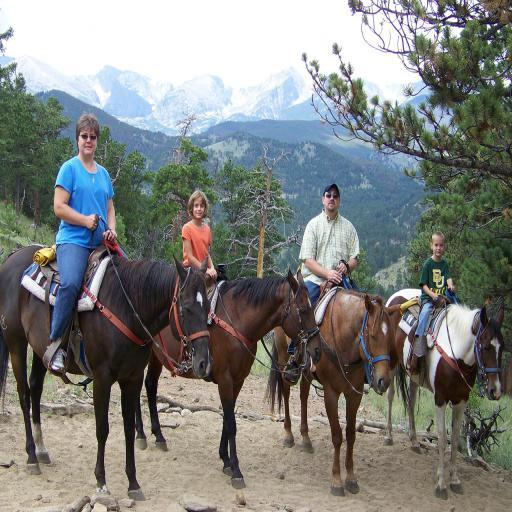Horse: (0, 243, 213, 502), (134, 268, 323, 488), (261, 293, 401, 500), (382, 287, 506, 501)
